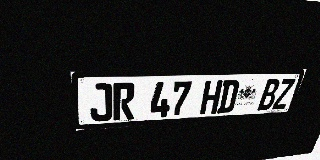4: (150, 82, 172, 118)
7: (169, 81, 192, 117)
B: (257, 79, 281, 111)
D: (217, 80, 240, 113)
H: (199, 80, 223, 115)
J: (88, 83, 112, 122)
R: (113, 82, 135, 121)
Z: (272, 79, 296, 110)
